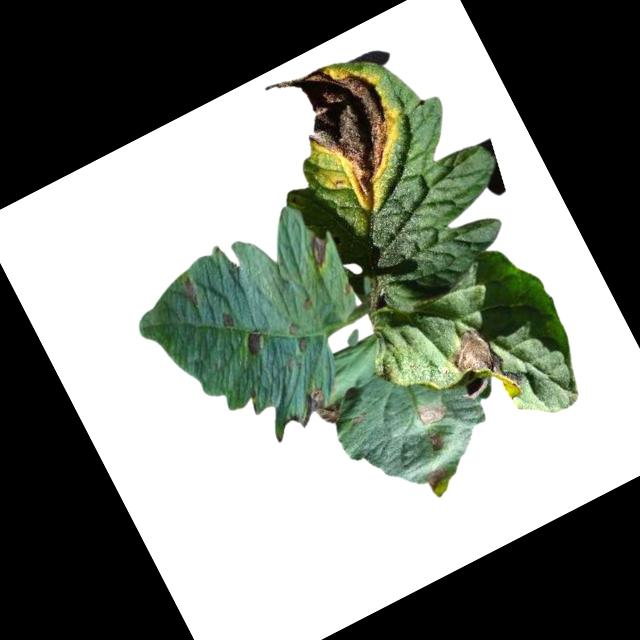Early_blight: (262, 39, 423, 225), (431, 315, 530, 423), (298, 381, 345, 432), (301, 231, 337, 273), (175, 270, 207, 308), (414, 398, 449, 429), (240, 326, 270, 359), (422, 464, 450, 493), (422, 428, 447, 455), (216, 309, 237, 332), (282, 319, 299, 338), (298, 296, 312, 309)
